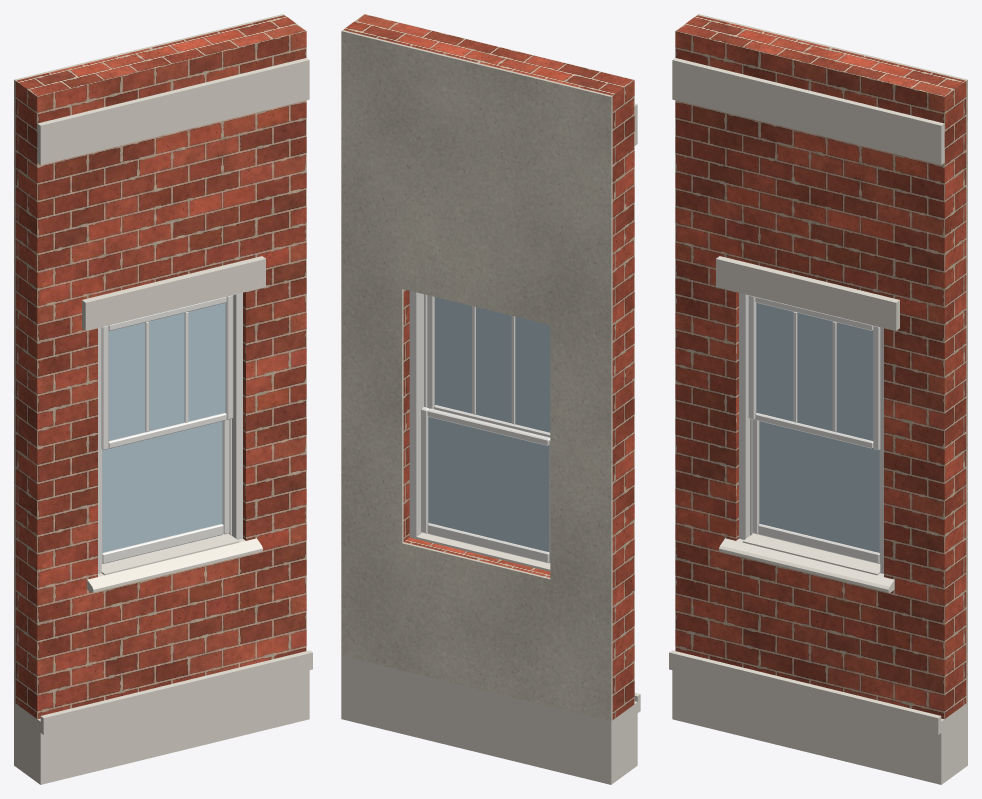
The model's file is wall_rect.glb.
3 views of the same model, side by side, from view 1: azimuth 30°, elevation 25°; view 2: azimuth 150°, elevation 25°; view 3: azimuth 330°, elevation 25° (orthographic).
Visible parts, largest first — view 1: wall_rect_brick, wall_rect_lime, wall_rect_glass, wall_rect_sash, wall_rect_trim, wall_rect_frame, wall_rect_plaster; view 2: wall_rect_plaster, wall_rect_glass, wall_rect_brick, wall_rect_lime, wall_rect_sash, wall_rect_frame, wall_rect_trim; view 3: wall_rect_brick, wall_rect_lime, wall_rect_glass, wall_rect_sash, wall_rect_trim, wall_rect_frame, wall_rect_plaster.
Boxes of the visible parts, <box> form: wall_rect_brick: <box>15,15,306,719</box>; wall_rect_lime: <box>14,58,312,784</box>; wall_rect_glass: <box>102,303,225,552</box>; wall_rect_sash: <box>101,295,233,563</box>; wall_rect_trim: <box>87,533,262,592</box>; wall_rect_frame: <box>98,292,242,573</box>; wall_rect_plaster: <box>14,14,284,702</box>; wall_rect_plaster: <box>341,30,612,721</box>; wall_rect_glass: <box>428,297,550,551</box>; wall_rect_brick: <box>343,14,634,719</box>; wall_rect_lime: <box>341,104,640,784</box>; wall_rect_sash: <box>421,295,550,563</box>; wall_rect_frame: <box>409,291,427,538</box>; wall_rect_trim: <box>416,532,550,571</box>; wall_rect_brick: <box>675,15,966,719</box>; wall_rect_lime: <box>669,58,967,784</box>; wall_rect_glass: <box>756,303,879,552</box>; wall_rect_sash: <box>748,295,880,563</box>; wall_rect_trim: <box>719,533,894,592</box>; wall_rect_frame: <box>739,292,883,573</box>; wall_rect_plaster: <box>697,14,967,702</box>.
Bounding box in the file's own units: 2 × 4.87 × 0.38.
Materials: 7 (2 with a texture image).
